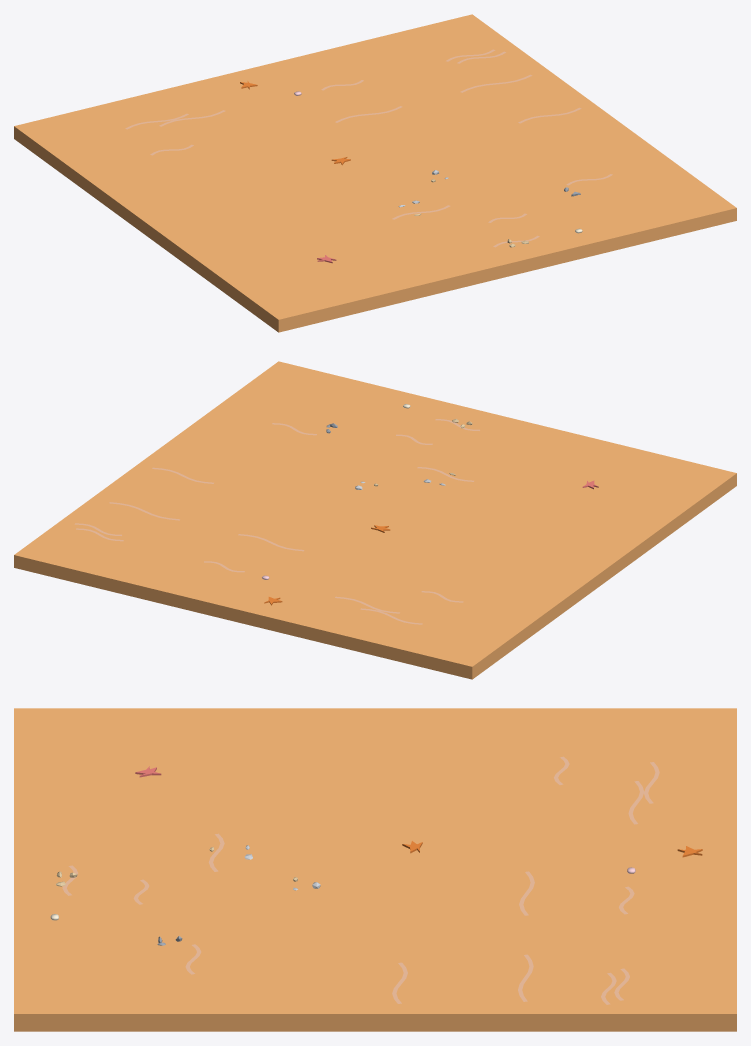
Rendered from areia.glb.
The picture shows the model from 3 angles, top to bottom: view 1: azimuth 30°, elevation 25°; view 2: azimuth 150°, elevation 25°; view 3: azimuth 270°, elevation 25°; orthographic projection. The views are drawn at different scales.
Parts seen in each view (by area): view 1: areia; view 2: areia; view 3: areia.
Boxes of the visible parts, bbox=[...] form: areia: bbox=[14, 14, 736, 332]; areia: bbox=[14, 361, 736, 679]; areia: bbox=[14, 708, 736, 1031].
Bounding box in the file's own units: 15 × 0.5181 × 15.
1 material, 1 textured.
